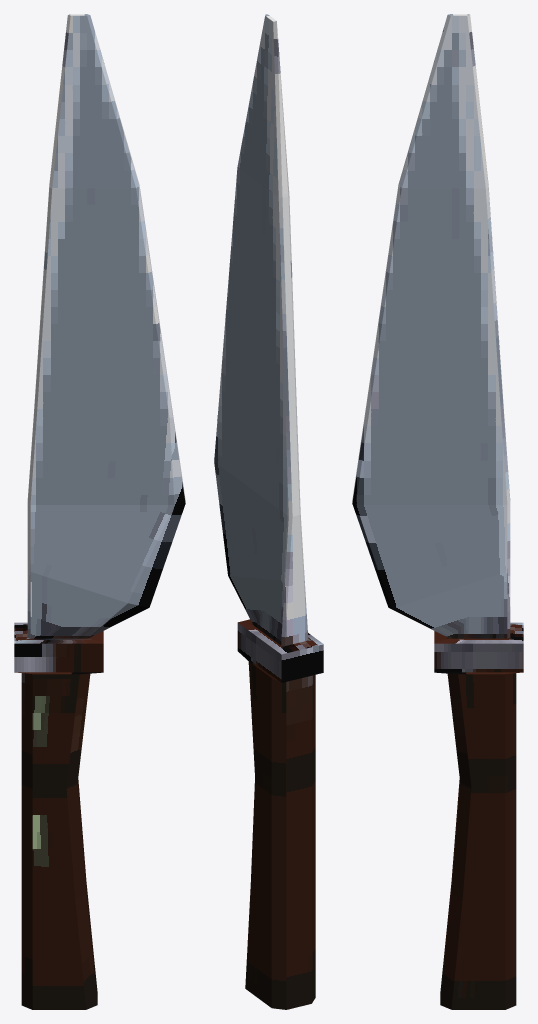
Rendered from kitchen_knife.glb.
3 renders of one model, left to right at view 1: azimuth 90°, elevation 25°; view 2: azimuth 210°, elevation 25°; view 3: azimuth 270°, elevation 25°, orthographic.
Parts seen in each view (by area): view 1: Cube; view 2: Cube; view 3: Cube.
Part boxes in pixels (x1=…): Cube: x1=14, y1=14, x2=185, y2=1009; Cube: x1=214, y1=14, x2=323, y2=1009; Cube: x1=352, y1=14, x2=523, y2=1009.
Bounding box in the file's own units: 0.6532 × 13.75 × 2.17.
1 material, 1 textured.
